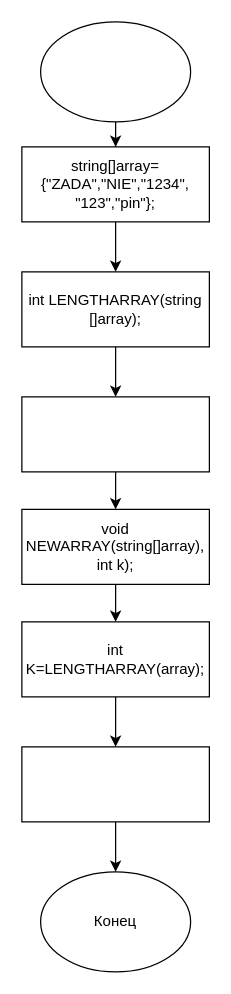
Image size: 231x994. Some labels were removed from this diagram. Each missing label, with the centre of its shape:
"NEWARRAY(array,K);" goes at (x=115, y=784).
"void PRINTARRAY(string[]array);" goes at (x=115, y=434).
"Начало" goes at (x=115, y=71).
